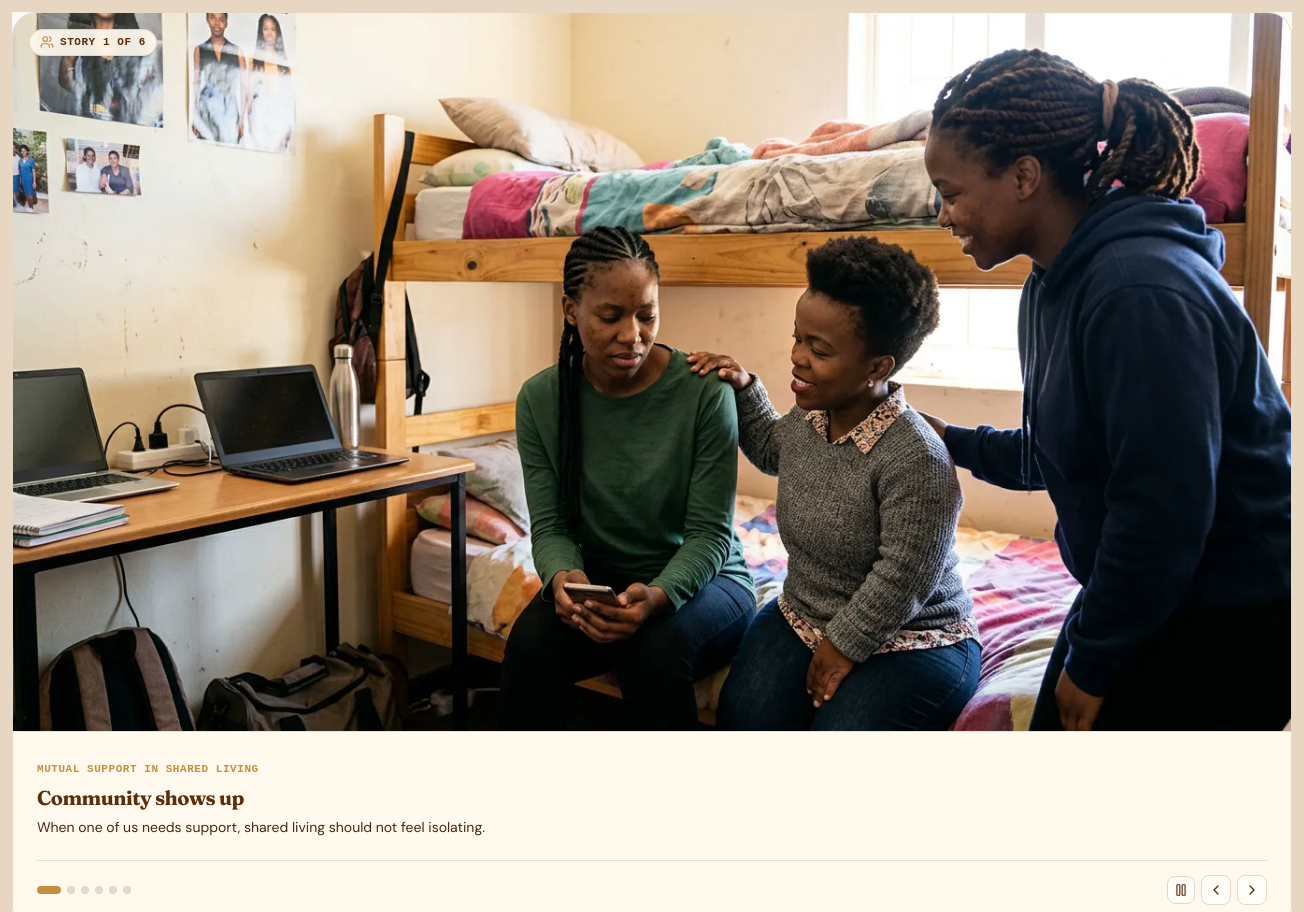
Test: Hut4Devs Landing Story Carousel Framework (Checkpoint 01) › supports pause and resume of slideshow
Note: Click to pause
What coordinates should you click on to do the following:
click the button named "Pause story slideshow"
I would click on:
 (1181, 890)
Its box is [1167,876,1195,904].
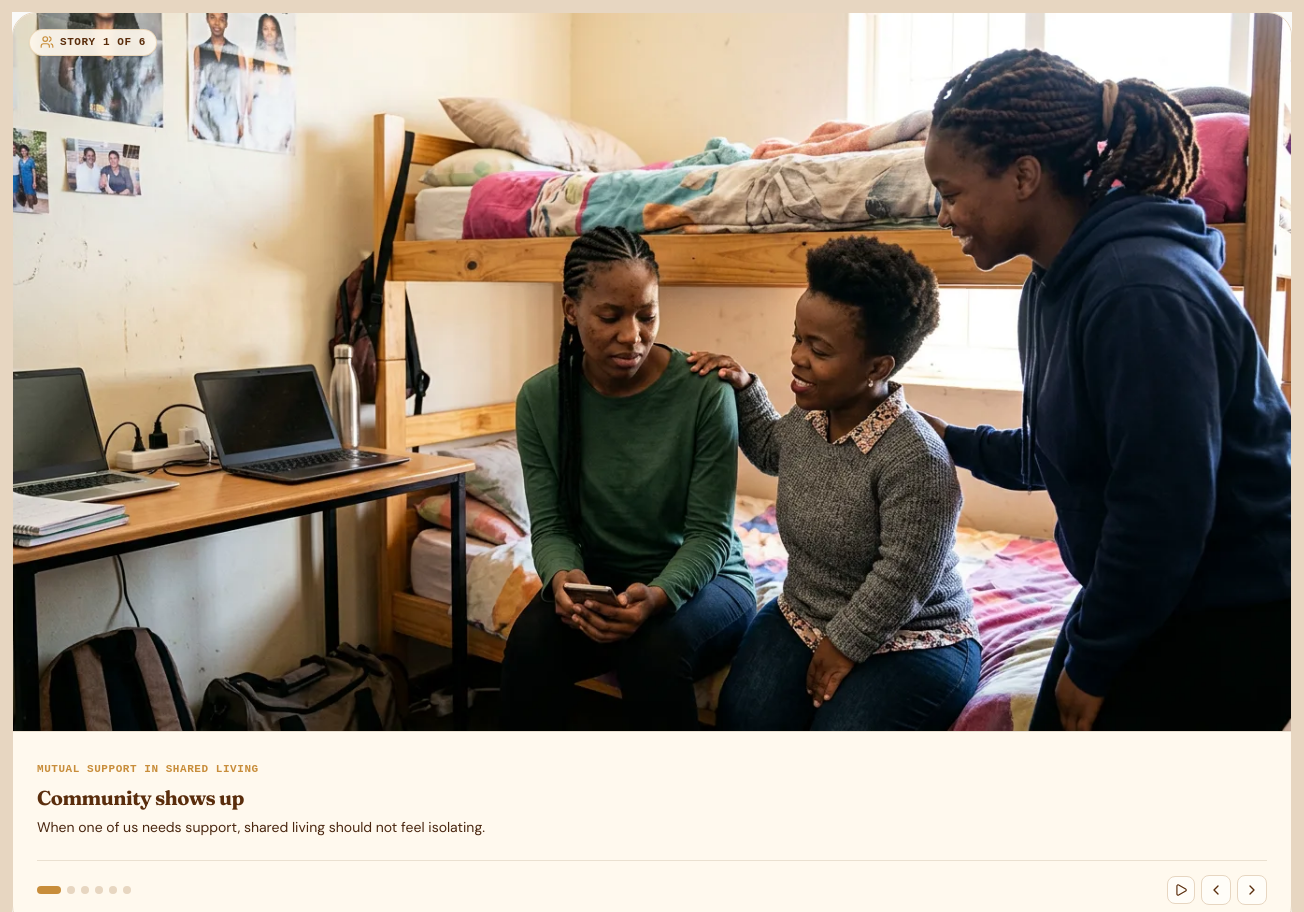
Now the button named "Play story slideshow" is shown, box [1167,876,1195,904]
